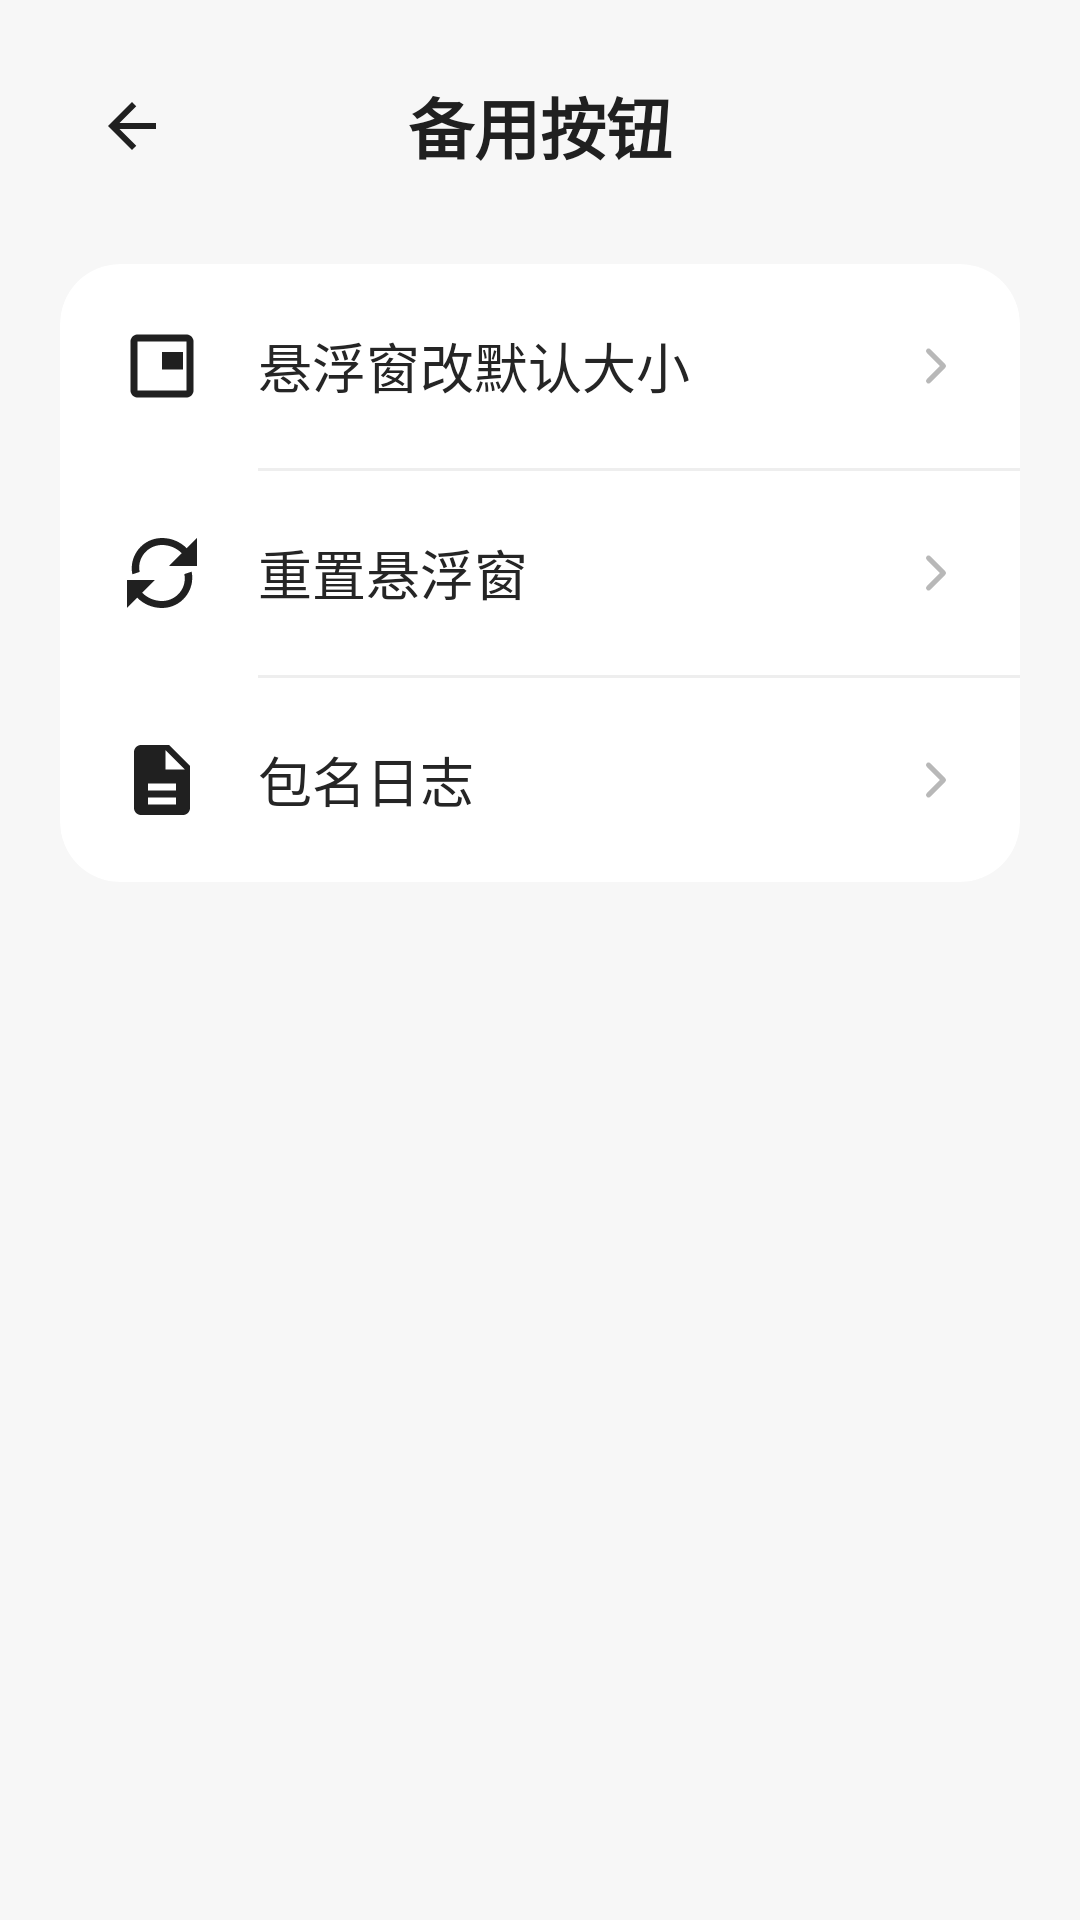

Locate icon controls on the screen. Image size 1080*1920, boxes as detection(x1, y1, x2, y2).
chevron: detection(926, 348, 946, 384), detection(926, 555, 946, 591), detection(926, 762, 946, 798)
floating: detection(130, 334, 194, 398)
log: detection(134, 745, 190, 815)
reset: detection(127, 538, 197, 608)
返回: detection(108, 102, 156, 150)
